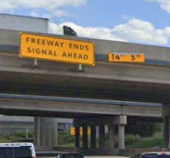1: (109, 52, 115, 61)
4: (114, 52, 120, 62)
5: (129, 52, 136, 62)
overheadsign: (107, 51, 145, 63)
